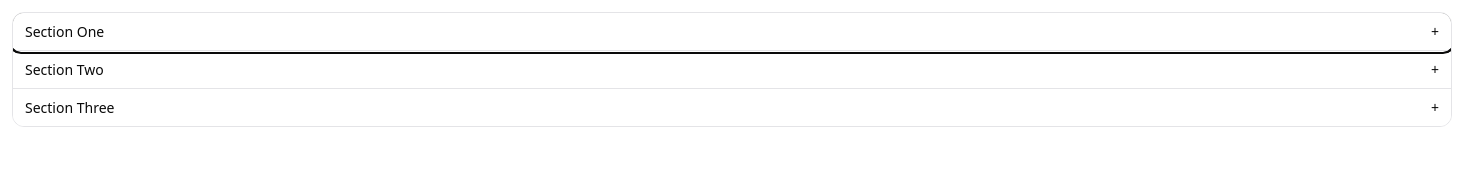
Test: Accordion › edge cases - boundary conditions › handles rapid clicking without breaking
Earlier steps of the test are not shown.
Click the button "Section One +": (65, 32) [13,13,1451,50]
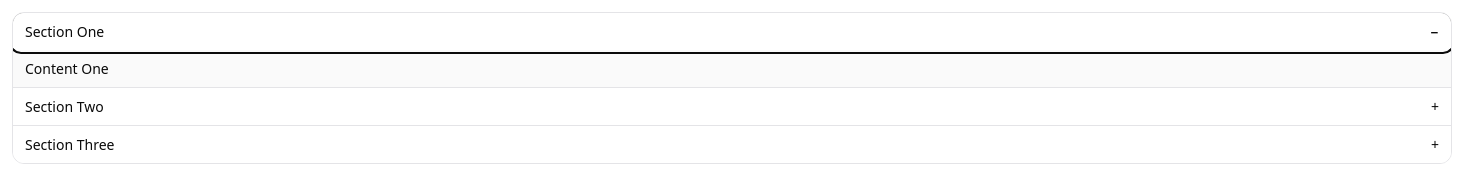
Click the button "Section One −": (65, 32) [13,13,1451,50]
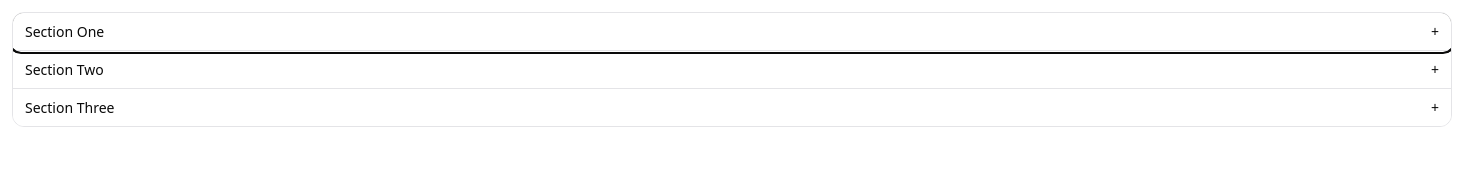
Click the button "Section One +": (65, 32) [13,13,1451,50]
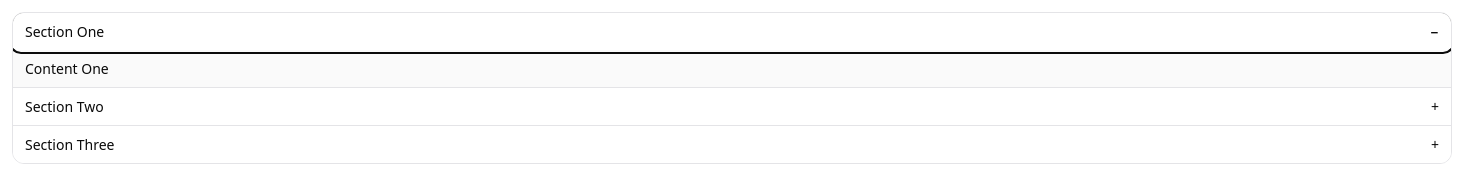
Click the button "Section One −": (65, 32) [13,13,1451,50]
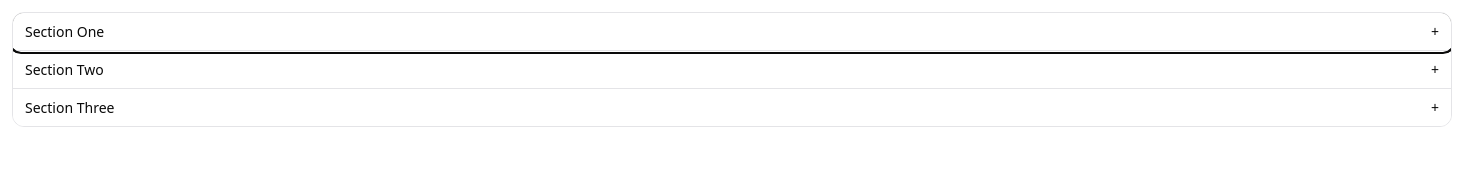
Click the button "Section One +": (65, 32) [13,13,1451,50]
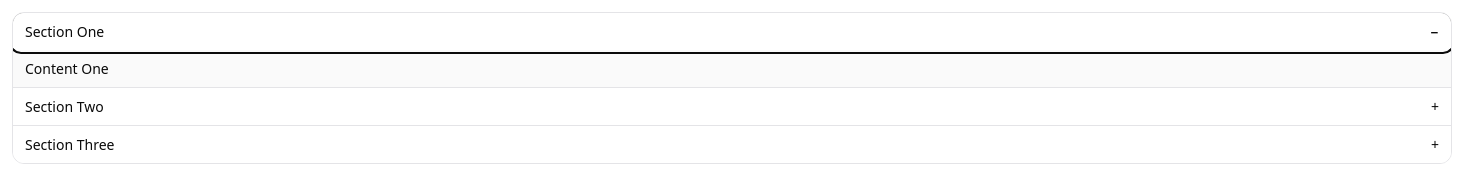
Click the button "Section One −": (65, 32) [13,13,1451,50]
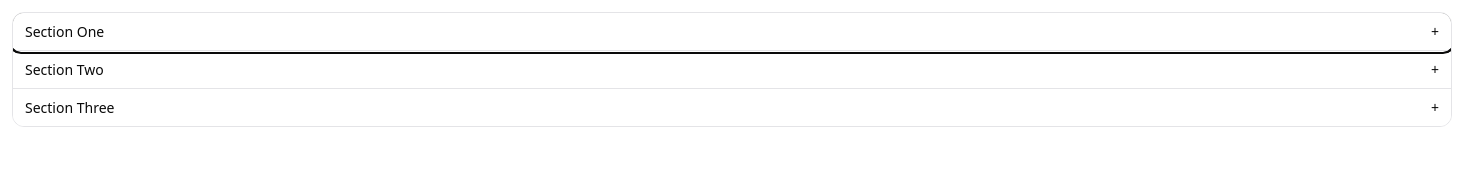
Expected: the text "Content One" is gone
